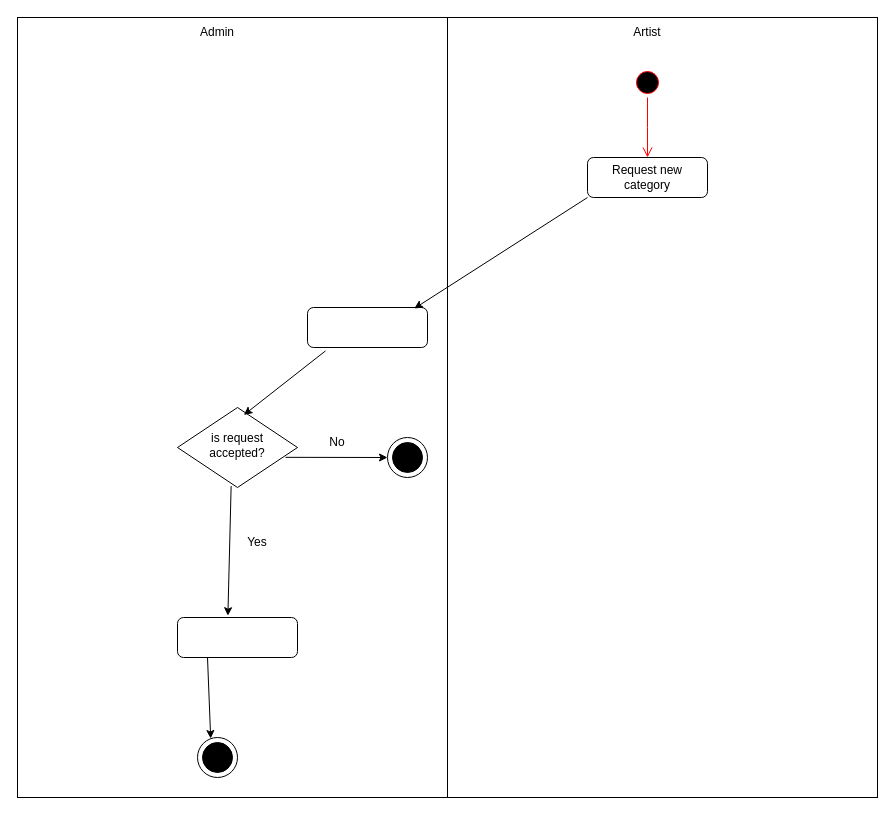
This 895x815 diagram has some shape labels left out. The box of each missing label's shape, as (x1, y1, x2, y2) in pixels:
Add category: (176, 616, 298, 658)
Receive request: (306, 306, 428, 348)
